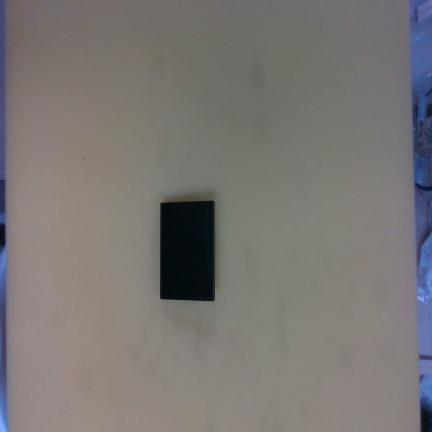tile: (160, 199, 213, 300)
